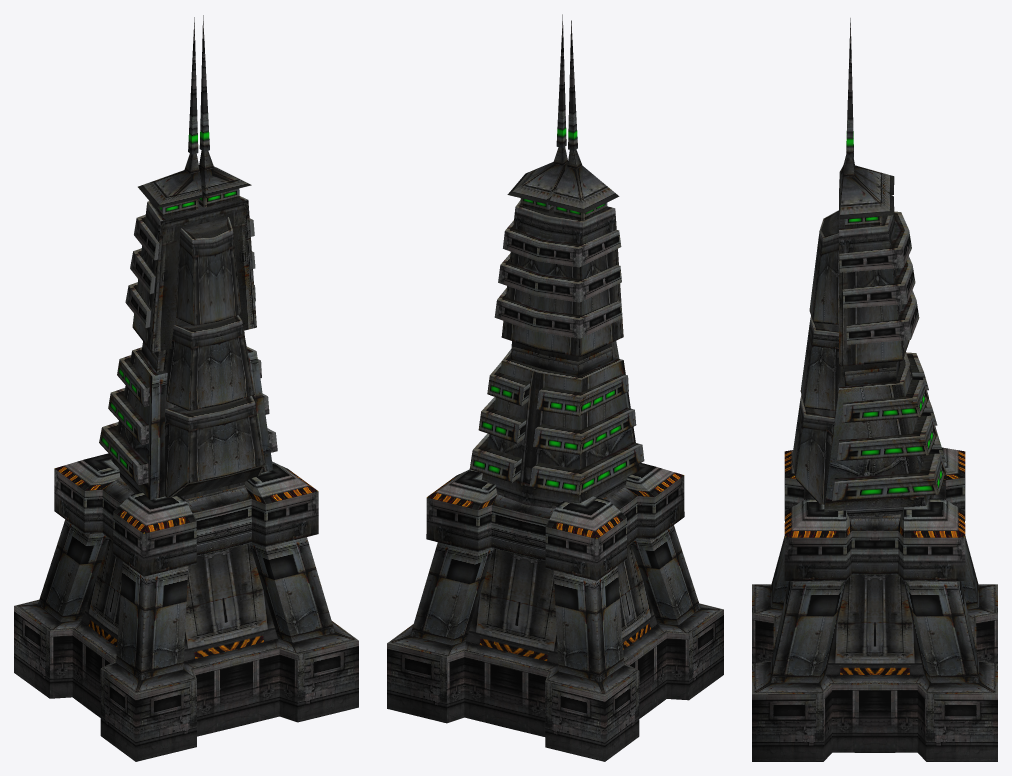
Rendered from bld-03_fbx.fbx.
3 renders of one model, left to right at view 1: azimuth 30°, elevation 25°; view 2: azimuth 150°, elevation 25°; view 3: azimuth 270°, elevation 25°, orthographic. The views are drawn at different scales.
Parts seen in each view (by area): view 1: bld-03; view 2: bld-03; view 3: bld-03.
Boxes of the visible parts, bbox=[...] form: bld-03: bbox=[14, 15, 358, 761]; bld-03: bbox=[387, 14, 723, 761]; bld-03: bbox=[752, 18, 997, 761].
Bounding box in the file's own units: 984 × 2884 × 930.
Materials: 1 (1 with a texture image).
